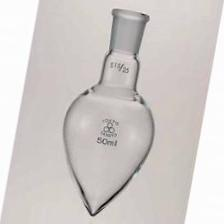Pear shaped flask: (64, 3, 159, 221)
